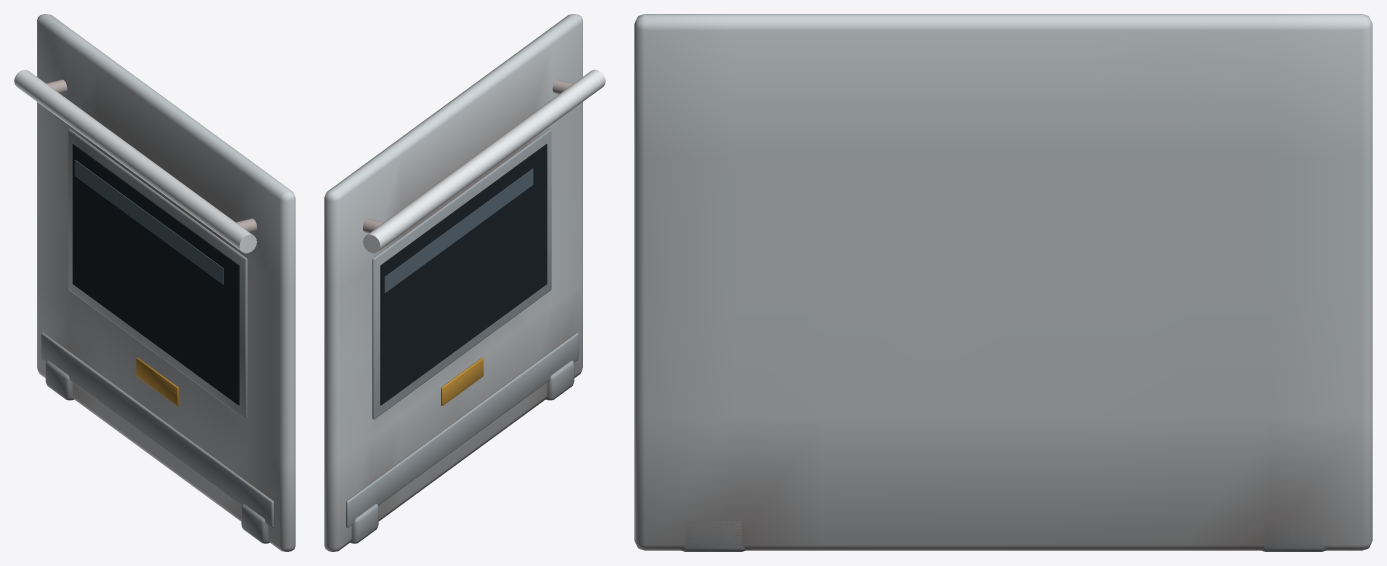
The model's file is fp-oven_door-steel.gltf.
3 renders of one model, left to right at view 1: azimuth 30°, elevation 25°; view 2: azimuth 150°, elevation 25°; view 3: azimuth 270°, elevation 25°, orthographic. The views are drawn at different scales.
Visible parts, largest first — view 1: model; view 2: model; view 3: model.
Boxes of the visible parts, bbox=[...] form: model: bbox=[14, 14, 295, 551]; model: bbox=[324, 14, 605, 551]; model: bbox=[634, 14, 1372, 551].
Size of the model in its own units: 0.092 by 0.67 by 0.84.
